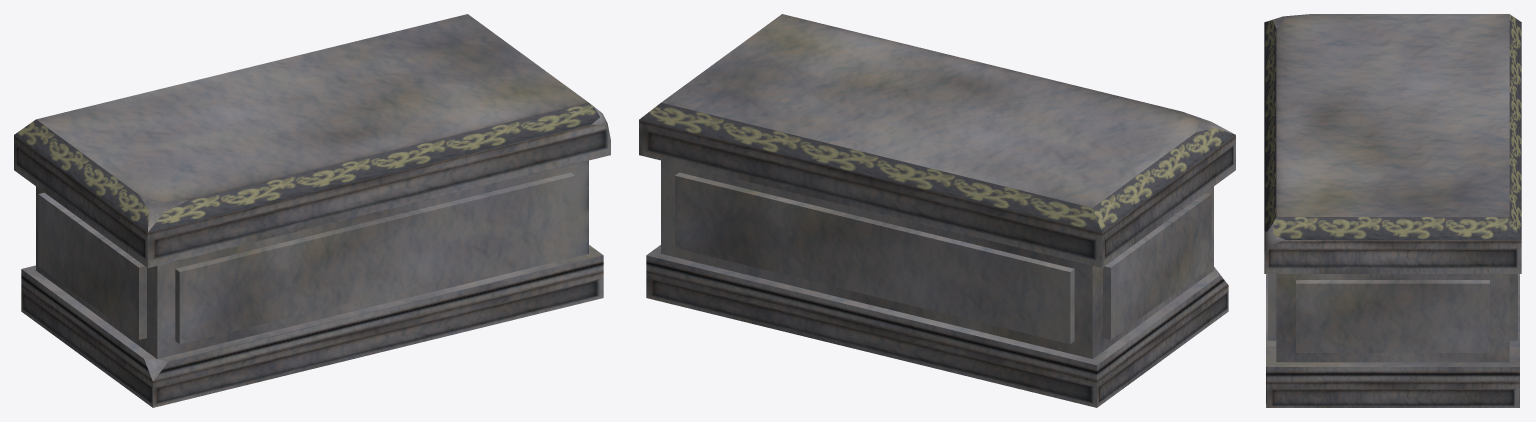
File: altar_01.glb
The picture shows the model from 3 angles, left to right: view 1: azimuth 30°, elevation 25°; view 2: azimuth 150°, elevation 25°; view 3: azimuth 270°, elevation 25°; orthographic projection. The views are drawn at different scales.
Parts seen in each view (by area): view 1: altar_01; view 2: altar_01; view 3: altar_01.
Part boxes in pixels (x1,y1,x2,y2): altar_01: (14,14,610,407); altar_01: (639,14,1235,407); altar_01: (1264,14,1521,407).
Bounding box in the file's own units: 3 × 1.2 × 1.5.
Materials: 1 (1 with a texture image).
